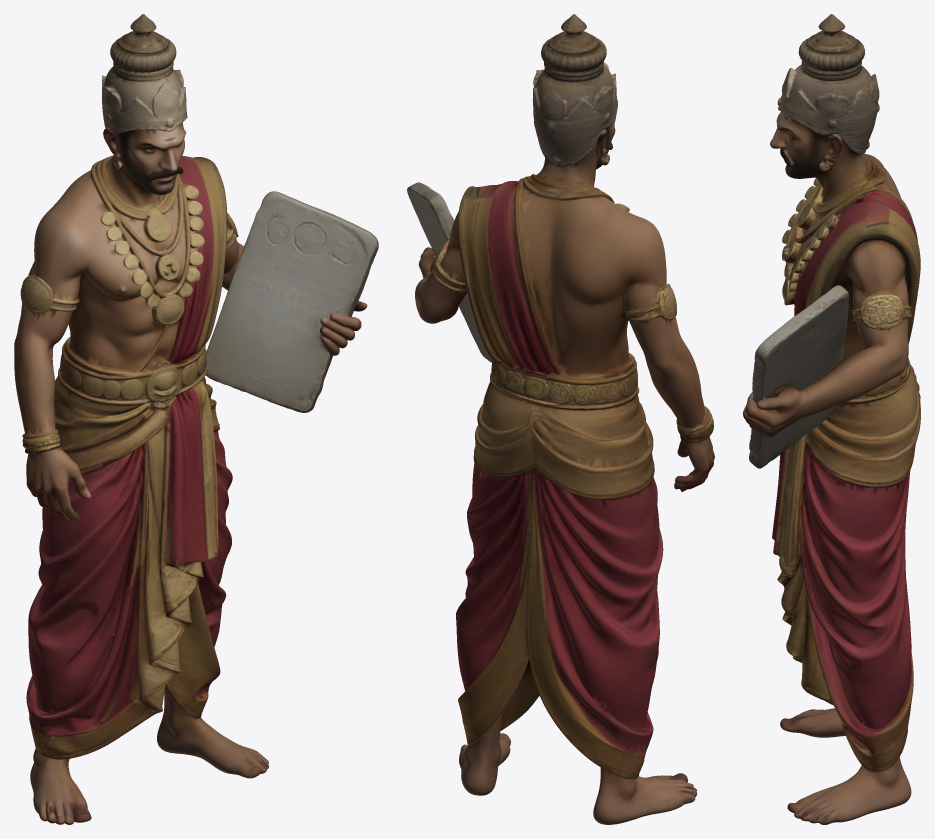
The model's file is raja_raja_cholan.glb.
The picture shows the model from 3 angles, left to right: view 1: azimuth 30°, elevation 25°; view 2: azimuth 150°, elevation 25°; view 3: azimuth 270°, elevation 25°; orthographic projection. The views are drawn at different scales.
Visible parts, largest first — view 1: node_0; view 2: node_0; view 3: node_0.
Part boxes in pixels (left/top/right/bottom): node_0: left=14, top=14, right=378, bottom=824; node_0: left=407, top=14, right=714, bottom=824; node_0: left=743, top=14, right=920, bottom=824.
Bounding box in the file's own units: 0.4968 × 1.12 × 0.2378.
1 material, 1 textured.
